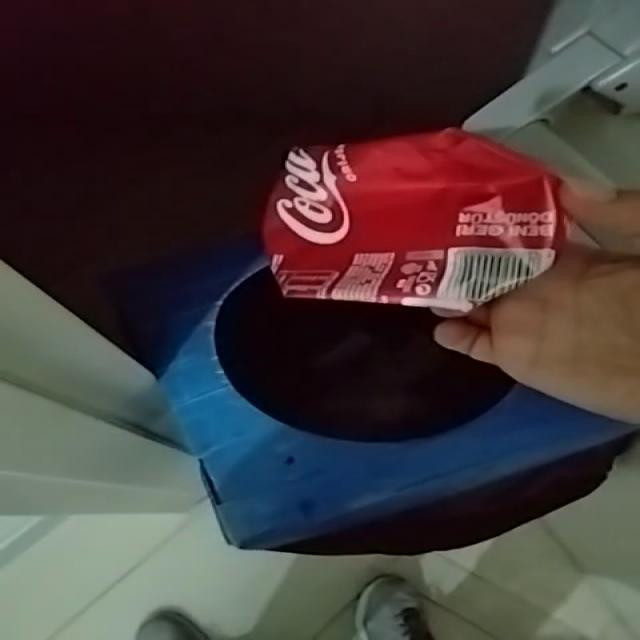bin: (216, 269, 516, 442)
metal: (263, 128, 567, 312)
